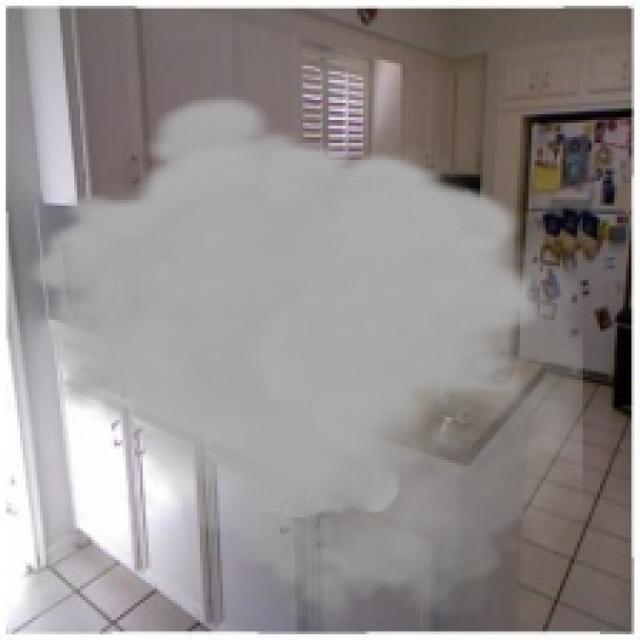Smoke: (26, 91, 583, 634)
